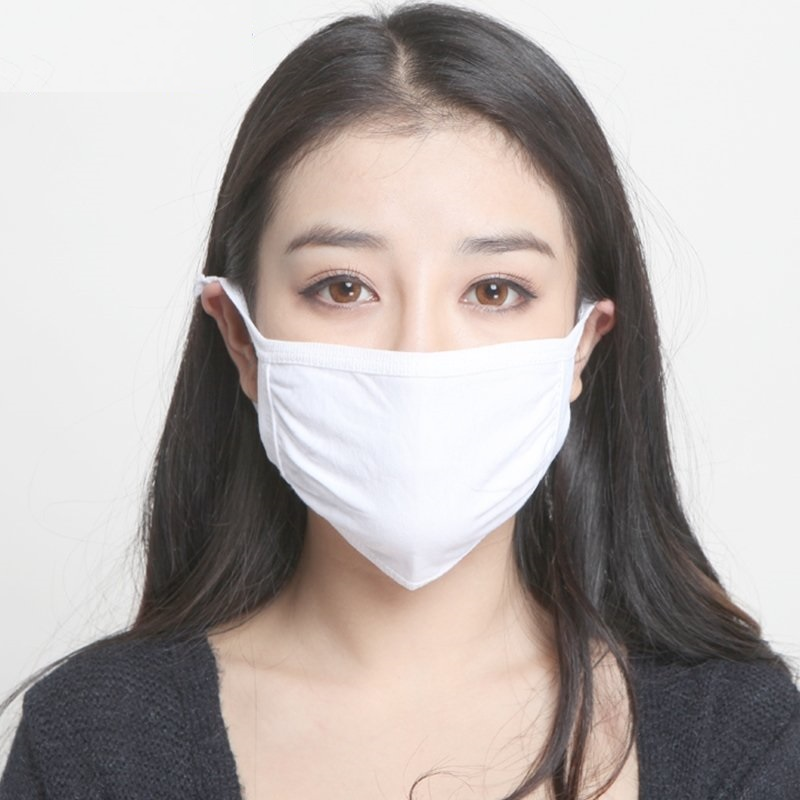face_mask: (254, 115, 576, 539)
